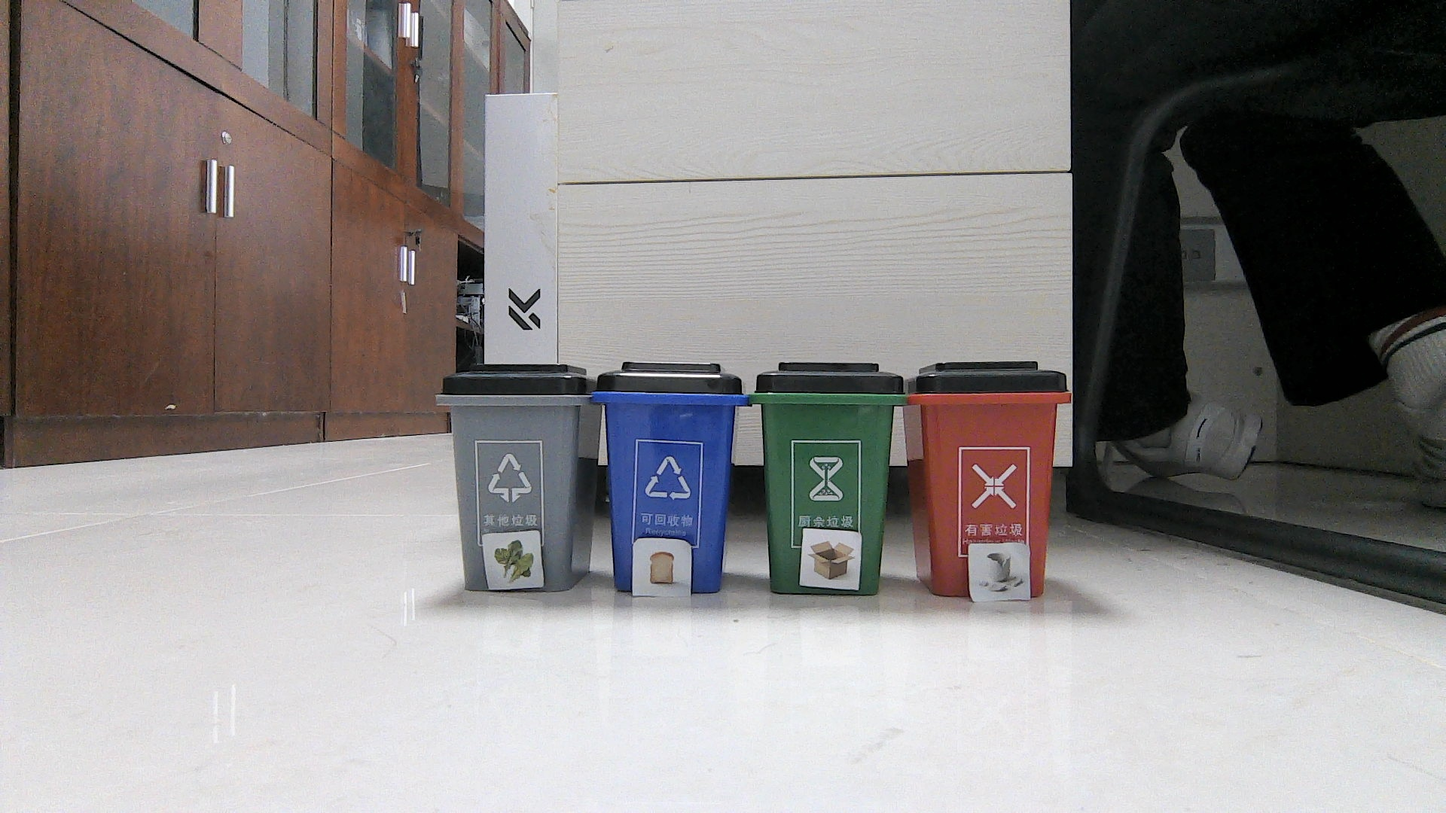food_trash: (488, 537, 536, 586), (636, 543, 683, 593)
other_trash: (972, 546, 1026, 599)
recyclable_trash: (804, 531, 860, 588)
